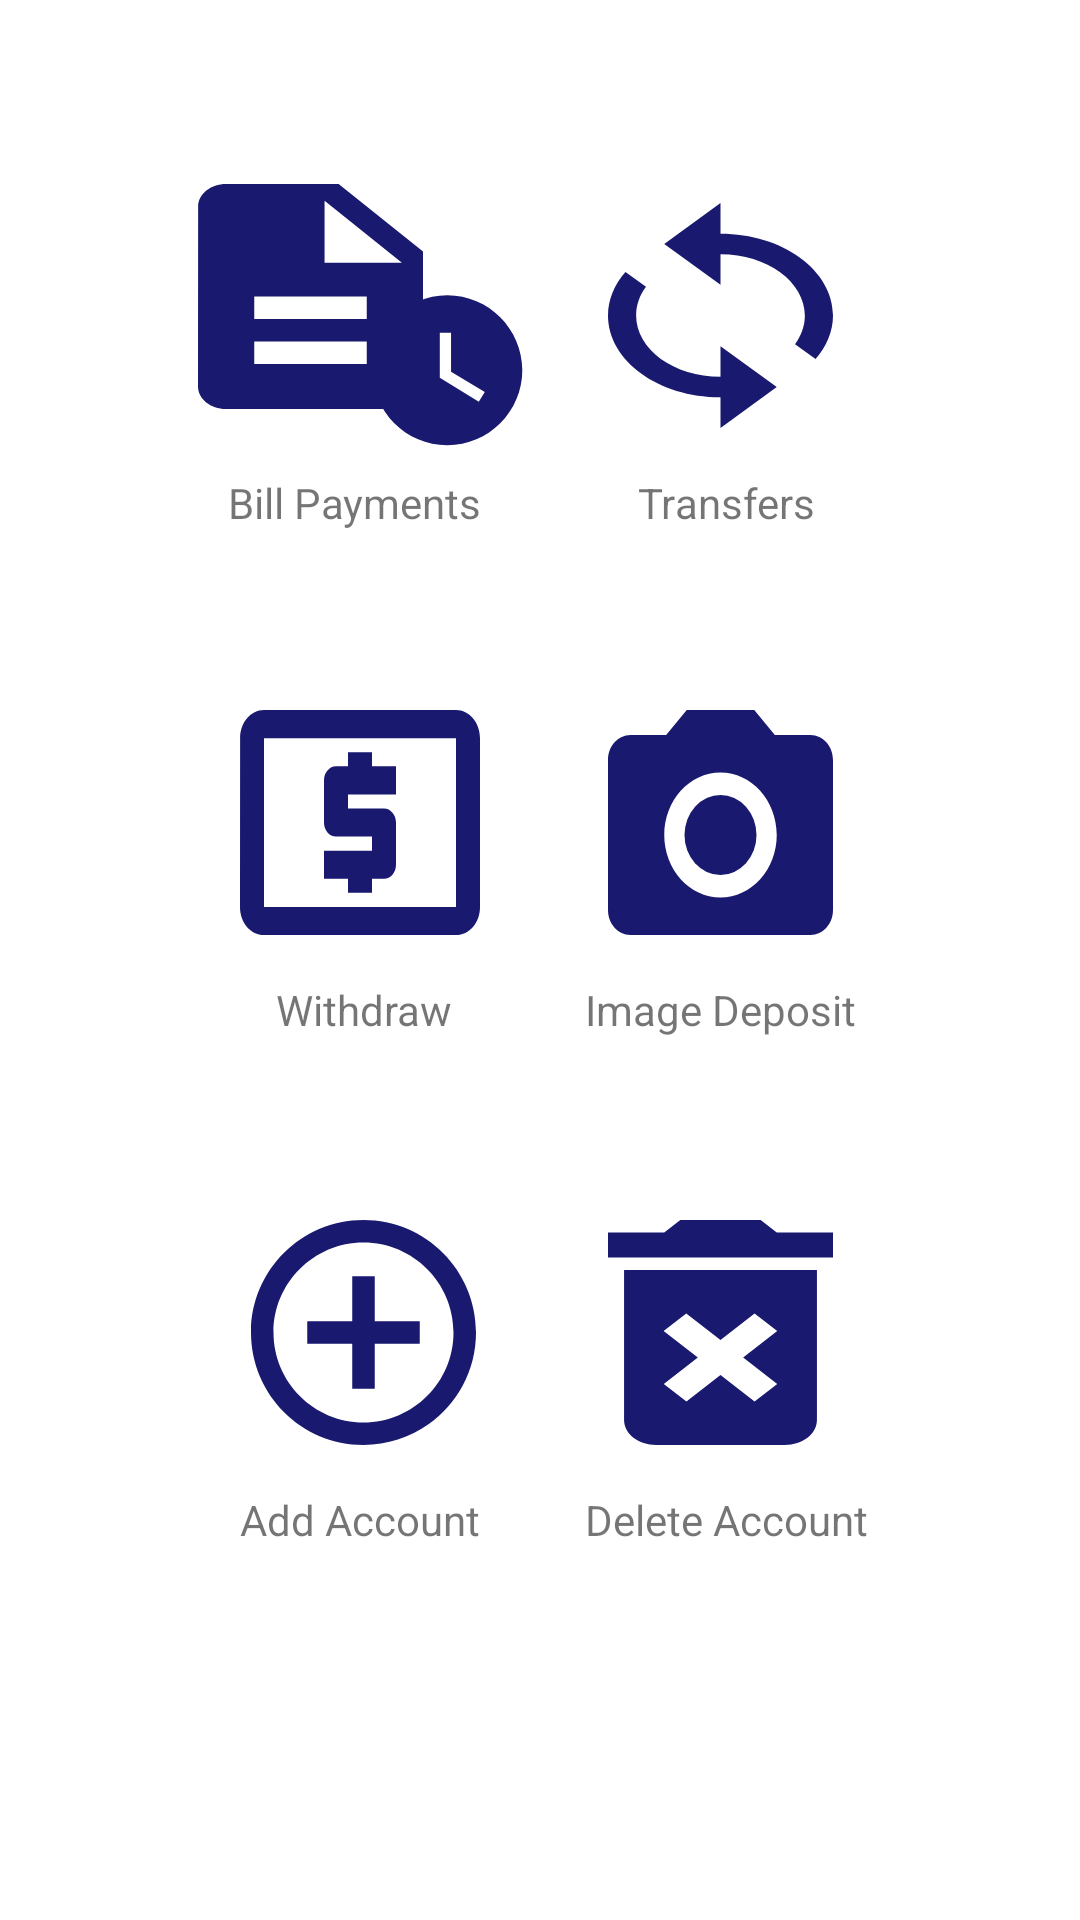

Named icons in this screenshot (1080*1920) and their centers, (x=x, y=y):
cameraicon: (x=720, y=822)
